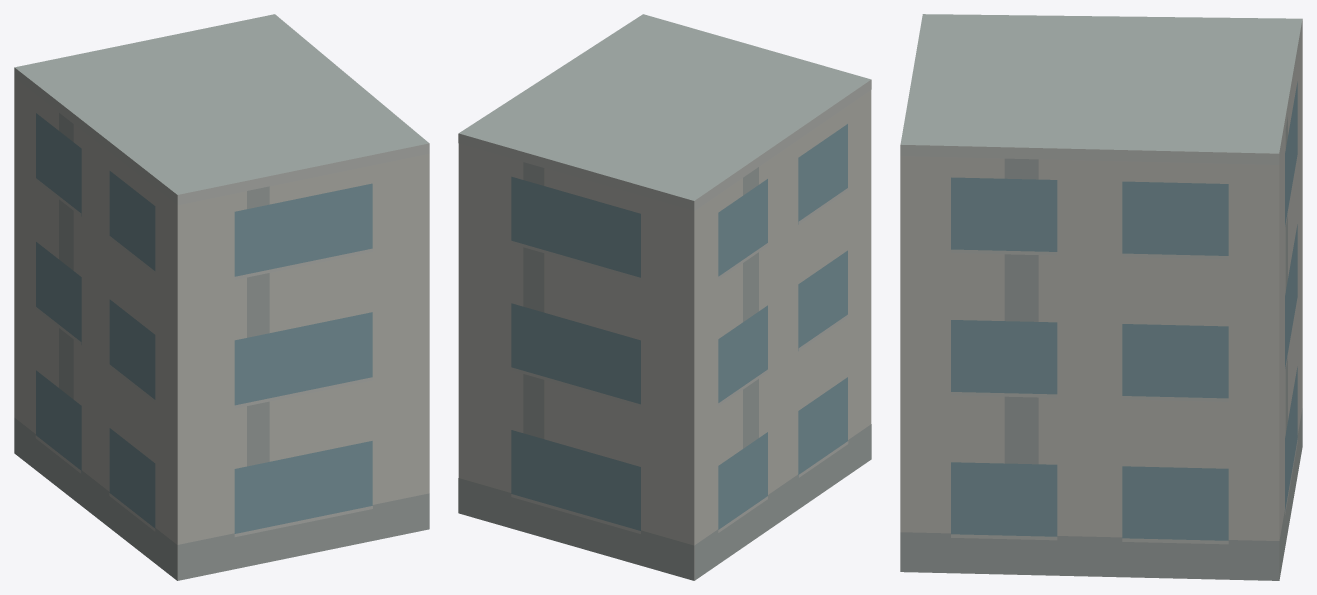
File: survey-upis-33032312.glb
3 views of the same model, side by side, from view 1: azimuth 30°, elevation 25°; view 2: azimuth 150°, elevation 25°; view 3: azimuth 270°, elevation 25° (orthographic). The views are drawn at different scales.
Visible parts, largest first — view 1: survey-upis-33032312.tmp; view 2: survey-upis-33032312.tmp; view 3: survey-upis-33032312.tmp.
Part boxes in pixels (x1=…): survey-upis-33032312.tmp: x1=14, y1=14, x2=429, y2=580; survey-upis-33032312.tmp: x1=458, y1=14, x2=871, y2=580; survey-upis-33032312.tmp: x1=900, y1=14, x2=1302, y2=580.
Bounding box in the file's own units: 6.42 × 9.15 × 7.82.
